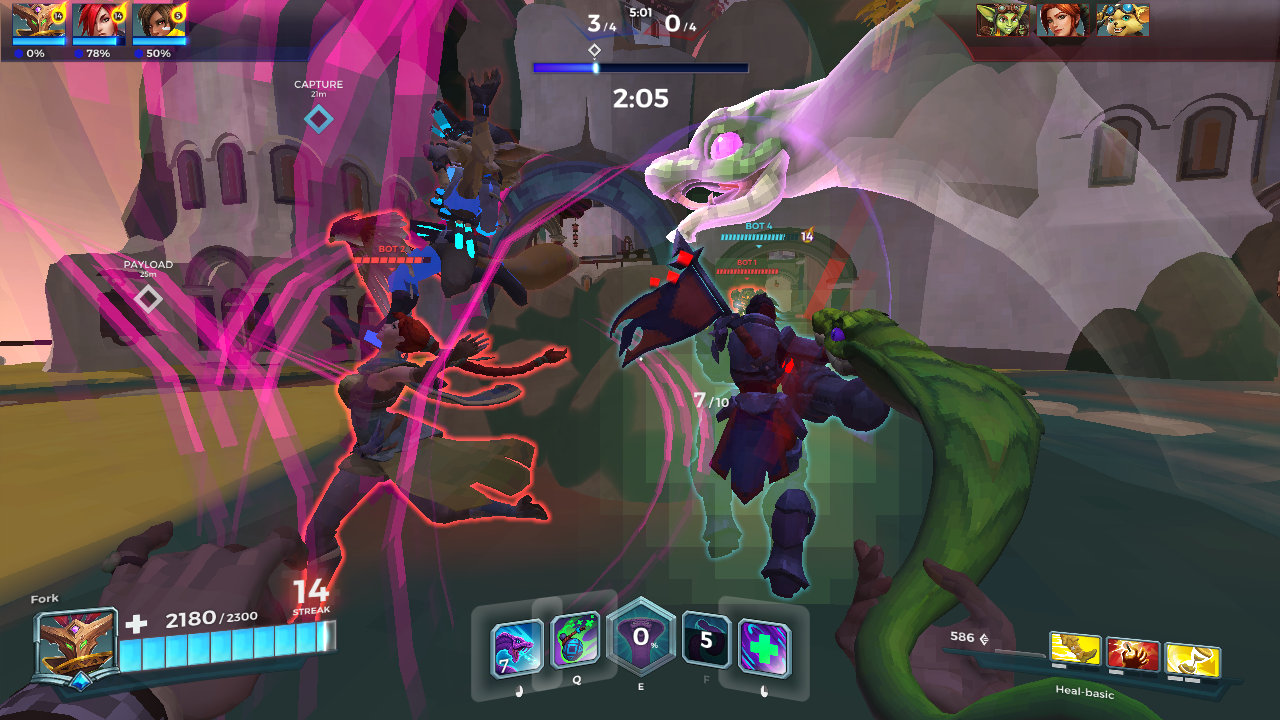model: (284, 297, 552, 561)
